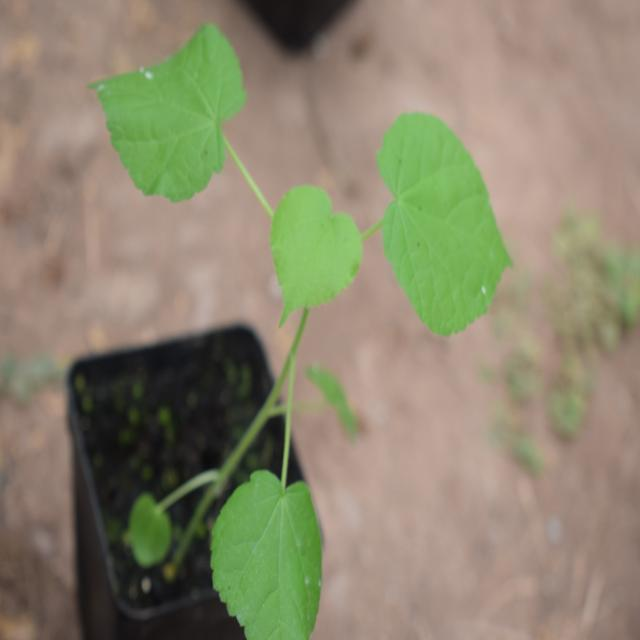abutilon theophrasti: (98, 37, 506, 638)
